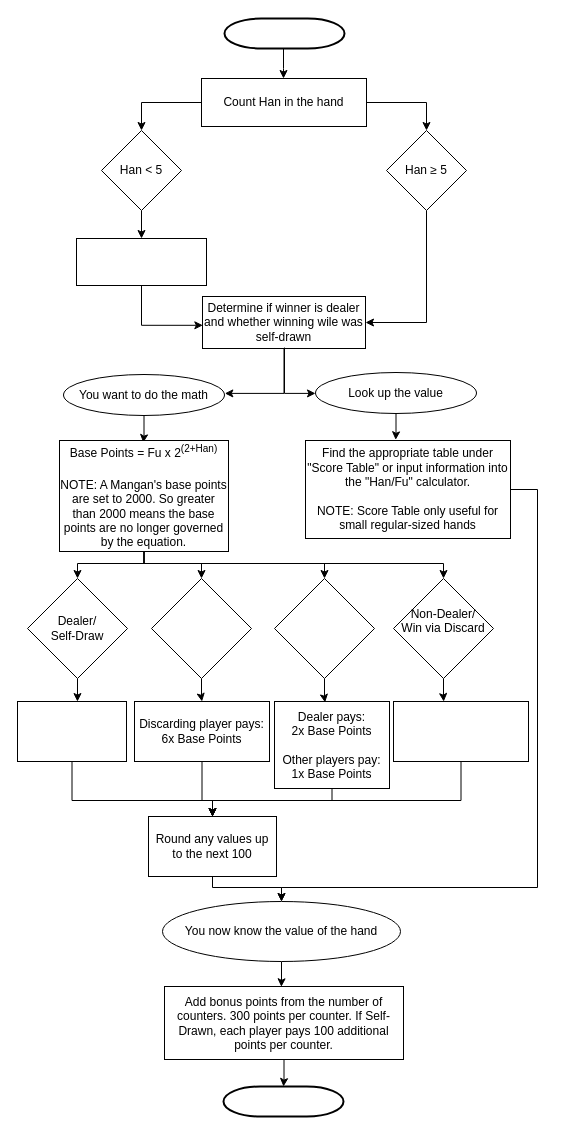
Some shapes in this 563 by 1134 pixel diagram are drawn without their labels. The shapes that lost their labels are listed below. From the top down, each one's centre as x and y in pixels, then its label:
At (x=284, y=33): "start".
At (x=141, y=262): "Count Fu in the hand".
At (x=201, y=628): "Dealer/ Win via Discard".
At (x=324, y=628): "Non-Dealer/ Self-Draw".
At (x=71, y=731): "Other players pay: 2x Base Points".
At (x=460, y=731): "Discarding player pays: 4x Base Points".
At (x=283, y=1101): "end".
